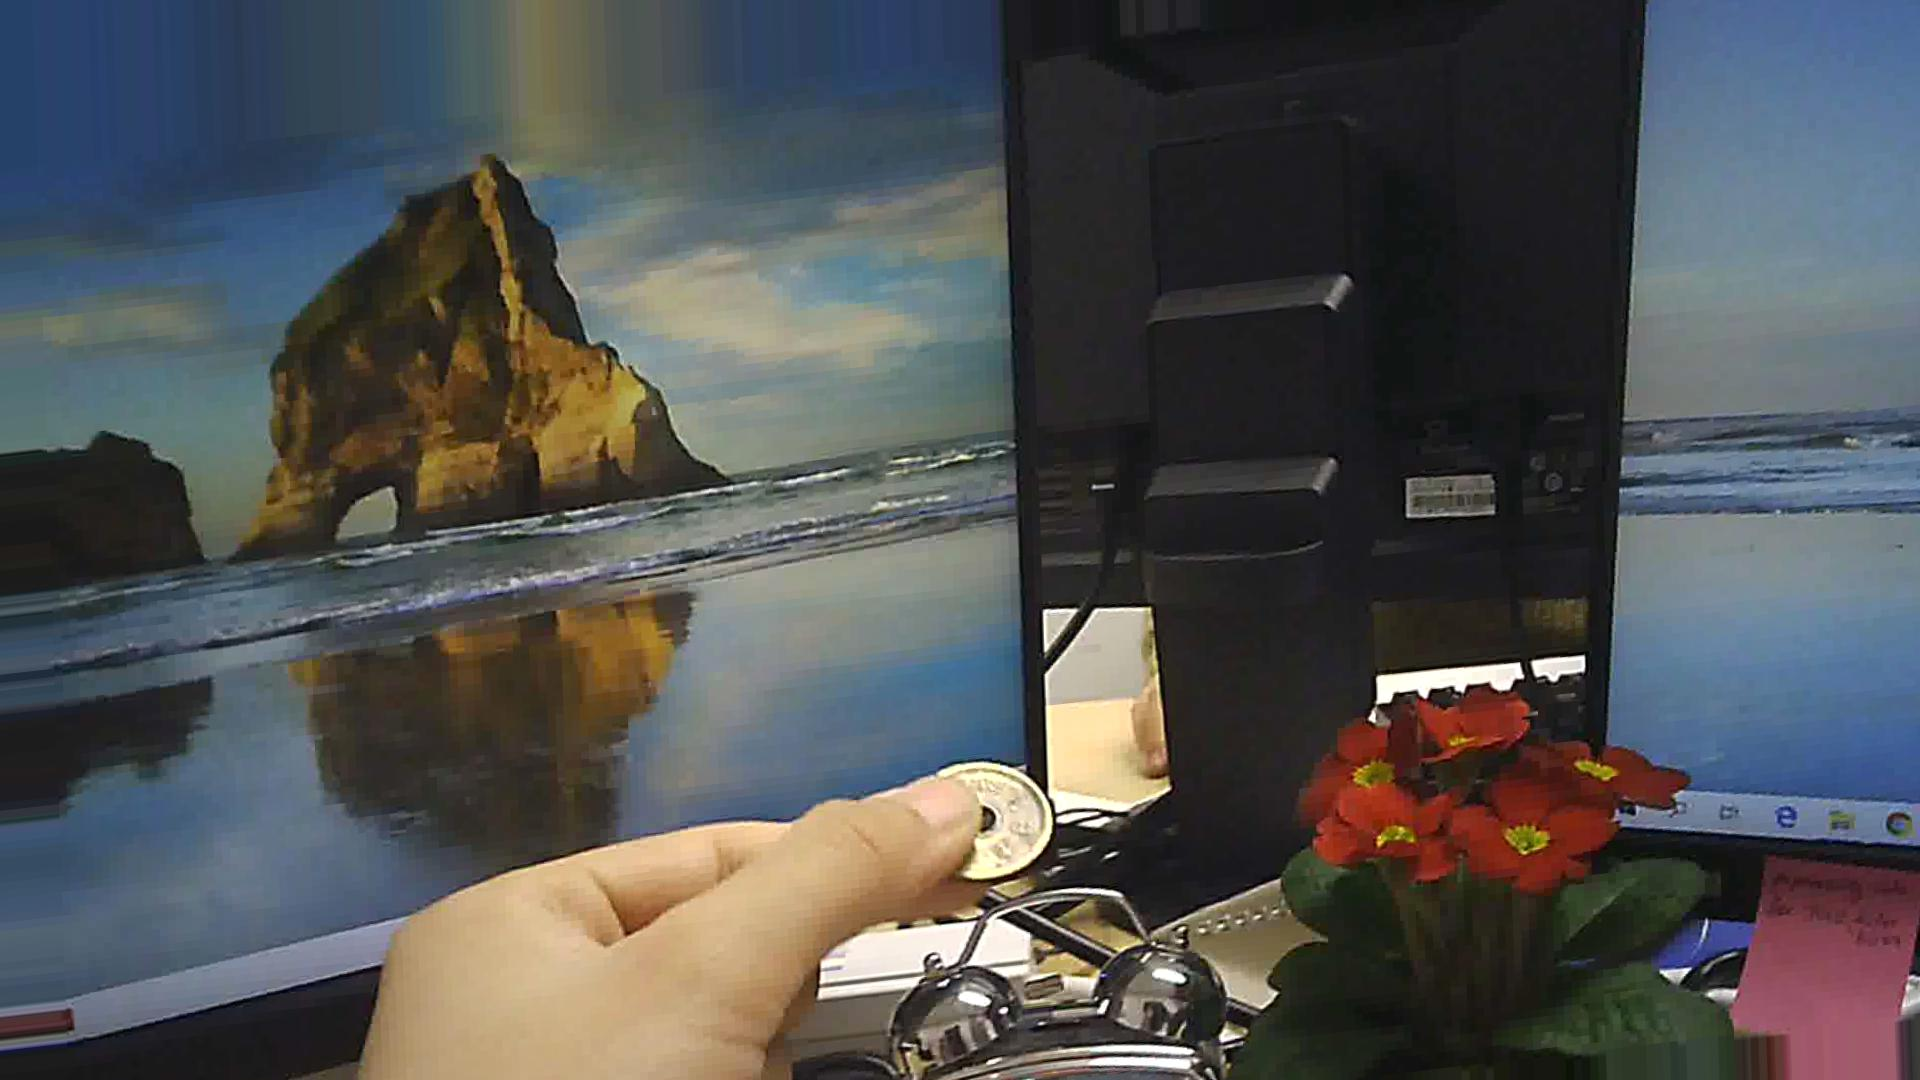5 Yen: (918, 752, 1062, 882)
